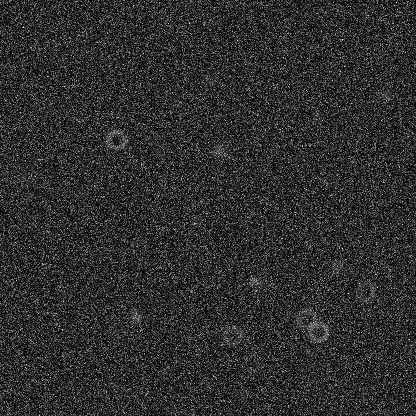Ring: (353, 279, 377, 303), (294, 306, 318, 330), (104, 127, 128, 151), (306, 320, 330, 344), (220, 323, 244, 347)
Spot: (210, 142, 226, 158), (112, 334, 128, 350), (120, 325, 136, 341), (54, 154, 70, 170), (329, 257, 345, 273), (247, 274, 263, 290), (127, 308, 143, 324), (201, 73, 217, 89), (309, 109, 325, 125), (188, 215, 204, 231), (15, 170, 31, 186), (378, 87, 394, 103)
